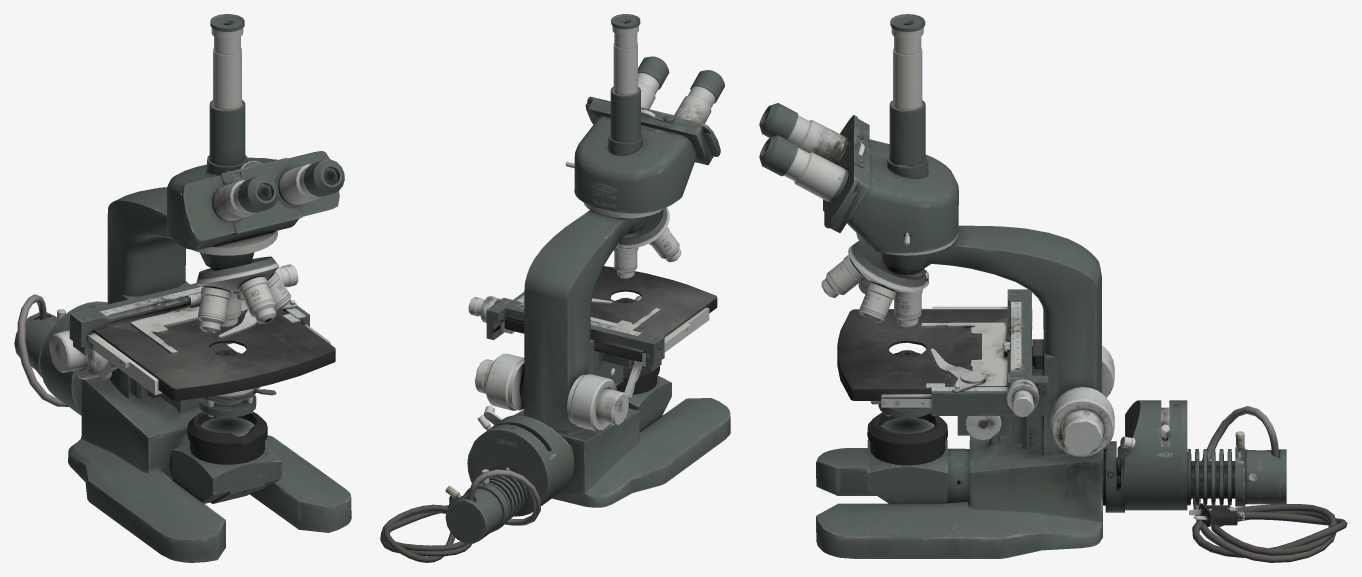
Rendered from industrial_microscope_1k.glb.
3 views of the same model, side by side, from view 1: azimuth 30°, elevation 25°; view 2: azimuth 150°, elevation 25°; view 3: azimuth 270°, elevation 25° (orthographic). The views are drawn at different scales.
Parts seen in each view (by area): view 1: industrial_microscope, industrial_microscope_cable; view 2: industrial_microscope, industrial_microscope_cable; view 3: industrial_microscope, industrial_microscope_cable.
Boxes of the visible parts, x1,y1,x2,y2 form: industrial_microscope: (14,14,351,562); industrial_microscope_cable: (17,294,68,406); industrial_microscope: (445,14,730,543); industrial_microscope_cable: (380,469,540,562); industrial_microscope: (759,14,1286,558); industrial_microscope_cable: (1189,406,1347,562).
Bounding box in the file's own units: 0.2145 × 0.4617 × 0.4981.
1 material, 1 textured.
